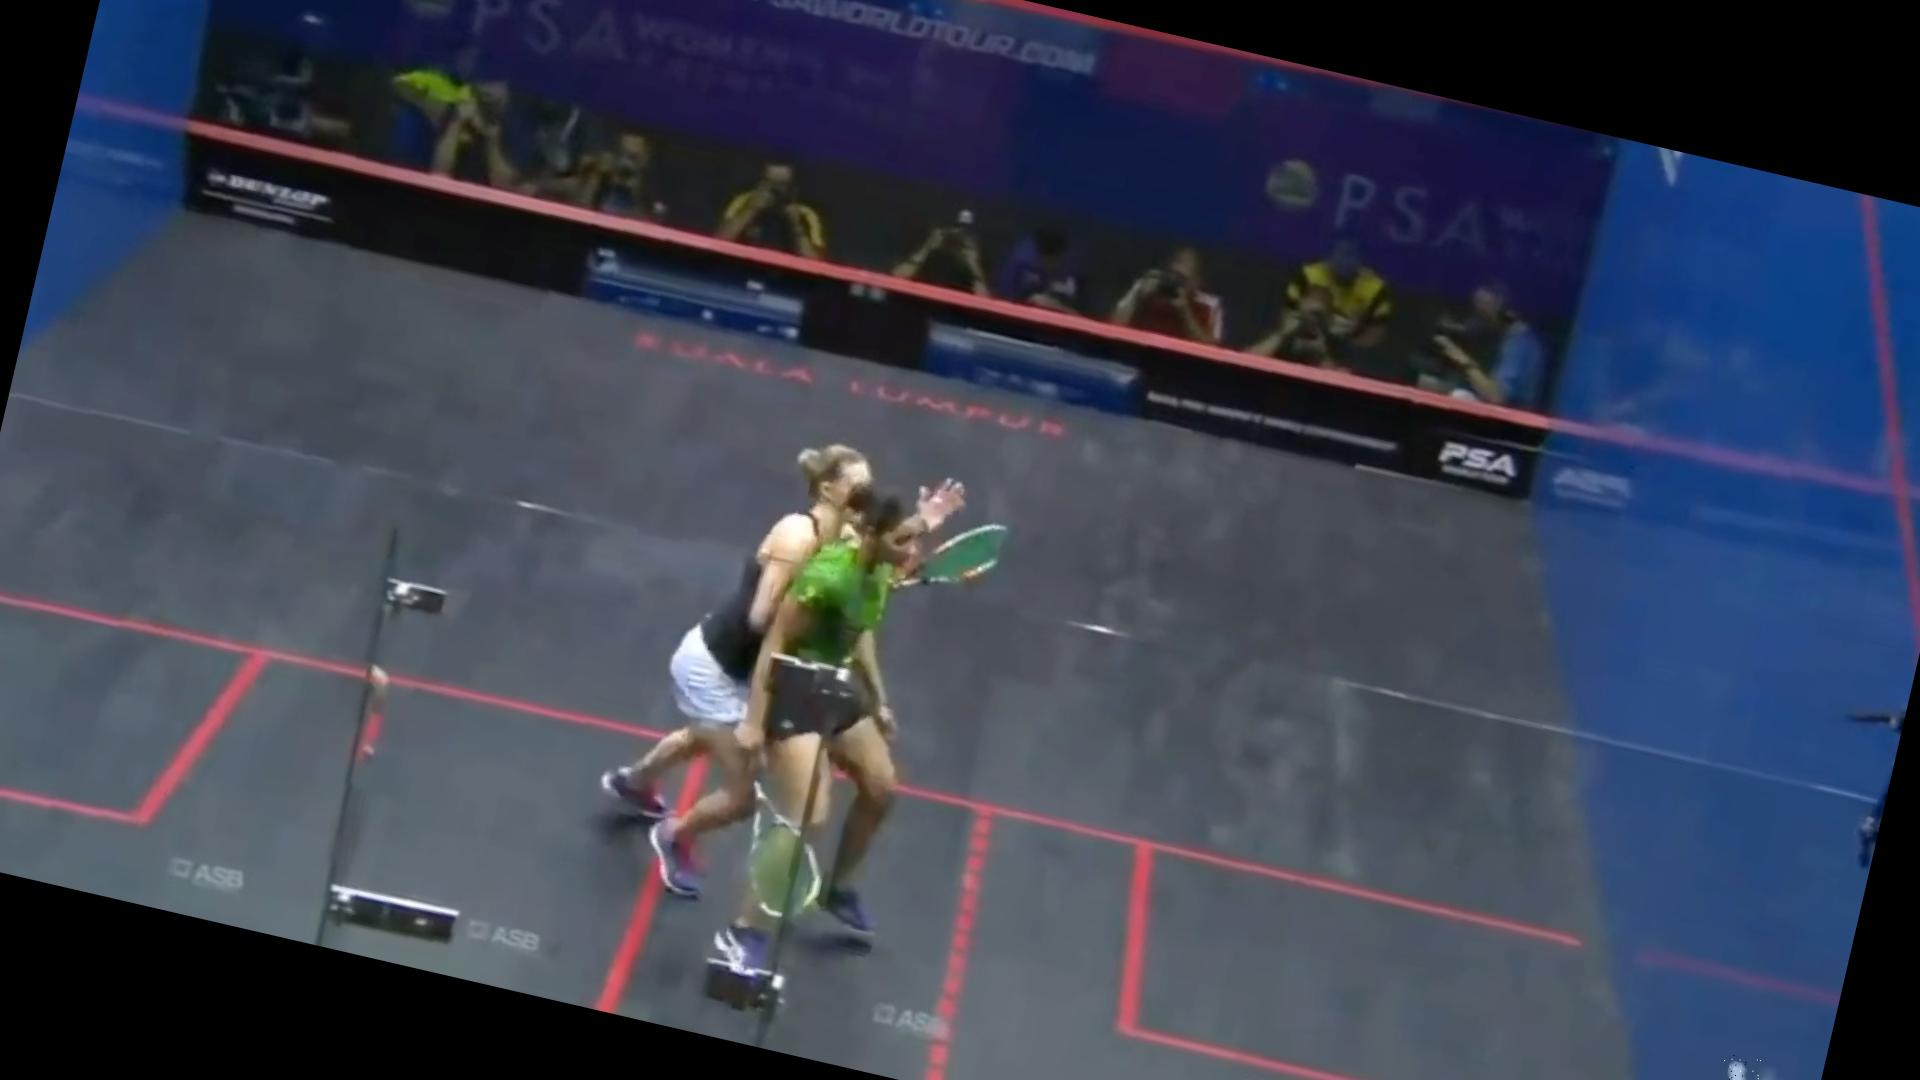Squash-Ball: (1714, 1048, 1763, 1080)
